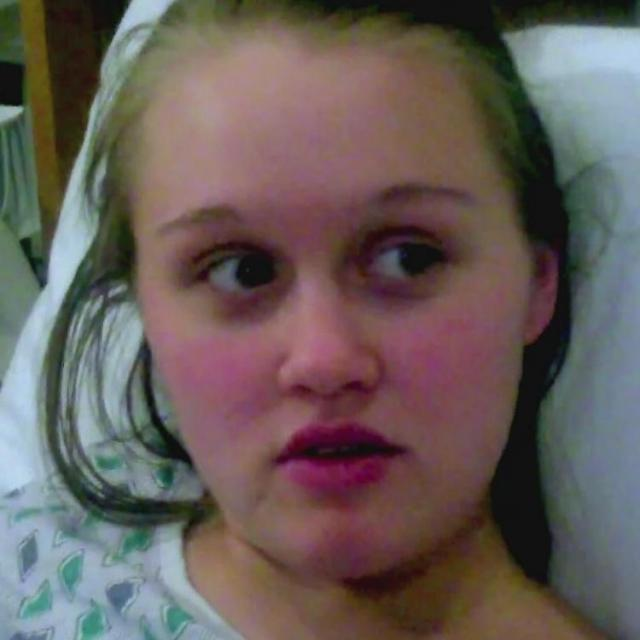surprised: (124, 108, 535, 576)
